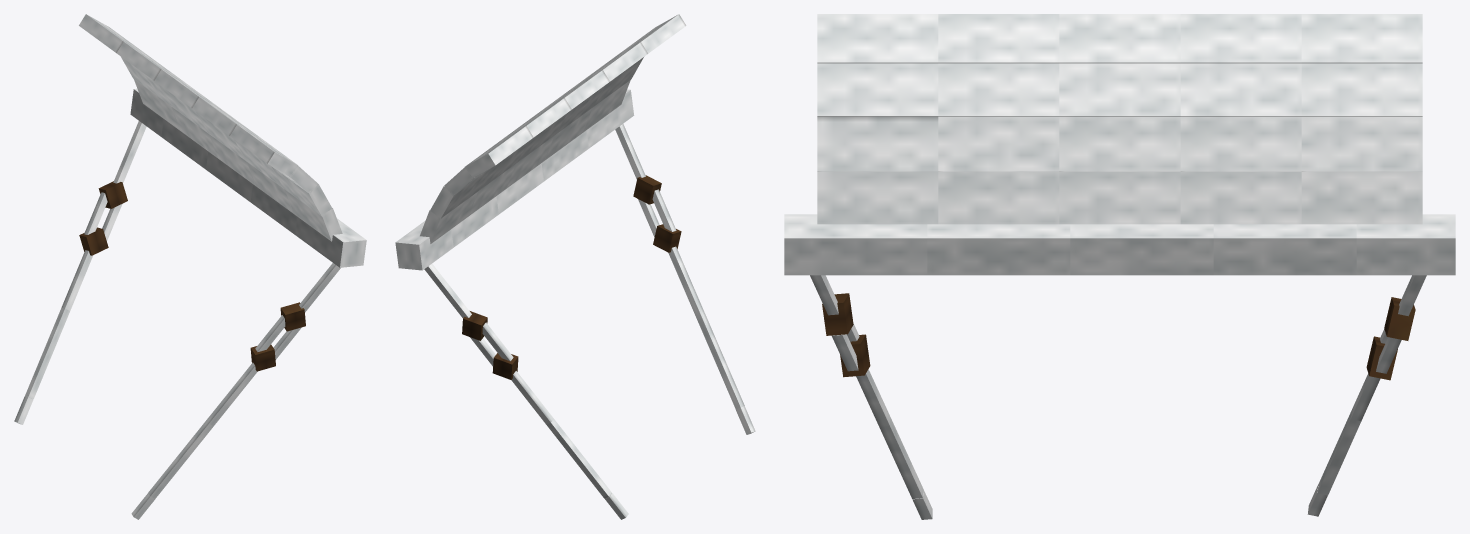
File: cog_segel_1_2.obj
The picture shows the model from 3 angles, left to right: view 1: azimuth 30°, elevation 25°; view 2: azimuth 150°, elevation 25°; view 3: azimuth 270°, elevation 25°; orthographic projection. The views are drawn at different scales.
Parts seen in each view (by area): view 1: cube; view 2: cube; view 3: cube.
Part boxes in pixels (x1,y1,x2,y2): cube: [14, 14, 366, 519]; cube: [395, 14, 755, 519]; cube: [784, 14, 1455, 519].
Bounding box in the file's own units: 2 × 3.68 × 3.81.
